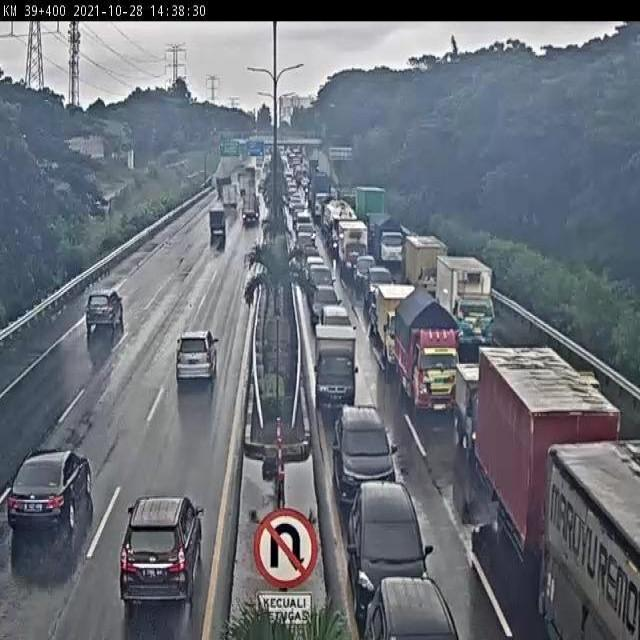big truck: (477, 340, 580, 543), (547, 446, 640, 640), (362, 191, 387, 237), (312, 180, 333, 223)
car: (120, 489, 198, 616), (9, 439, 88, 541), (352, 490, 431, 586), (370, 578, 455, 640), (336, 412, 394, 488), (315, 337, 360, 412), (170, 325, 220, 384), (83, 288, 121, 331), (319, 313, 352, 340), (315, 289, 342, 319), (374, 279, 397, 305), (309, 275, 335, 297), (363, 266, 380, 290), (301, 256, 317, 272), (297, 225, 315, 239), (299, 236, 313, 253), (307, 263, 322, 277), (295, 218, 311, 230), (296, 204, 308, 219), (312, 249, 313, 252), (324, 269, 325, 271), (307, 216, 308, 217)
small truck: (404, 309, 461, 415), (447, 261, 499, 351), (458, 371, 486, 461), (386, 292, 413, 364), (410, 239, 443, 297), (344, 230, 373, 278), (383, 221, 409, 268), (331, 207, 353, 260), (242, 189, 261, 224), (207, 207, 227, 237), (239, 168, 254, 199), (223, 186, 238, 210), (259, 167, 270, 189), (218, 171, 230, 188), (253, 152, 263, 167)
